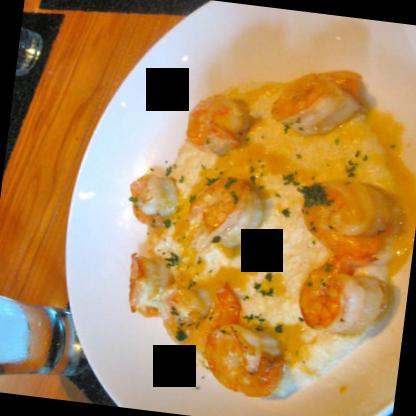shrimp: (296, 257, 394, 340), (200, 318, 292, 402), (296, 176, 386, 259), (276, 66, 366, 138), (184, 174, 266, 249)
